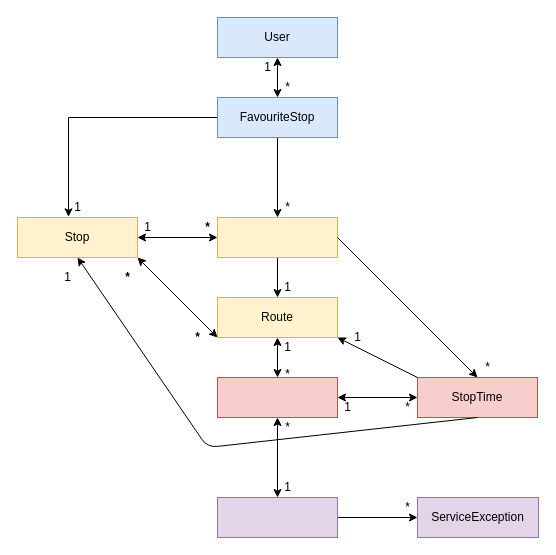
Some shapes in this 556 by 555 pixel diagram are drawn without their labels. Each missing label, with the centre of its shape:
"Service" belongs at pixel 277 517.
"StopRoute" belongs at pixel 277 237.
"Trip" belongs at pixel 277 397.
